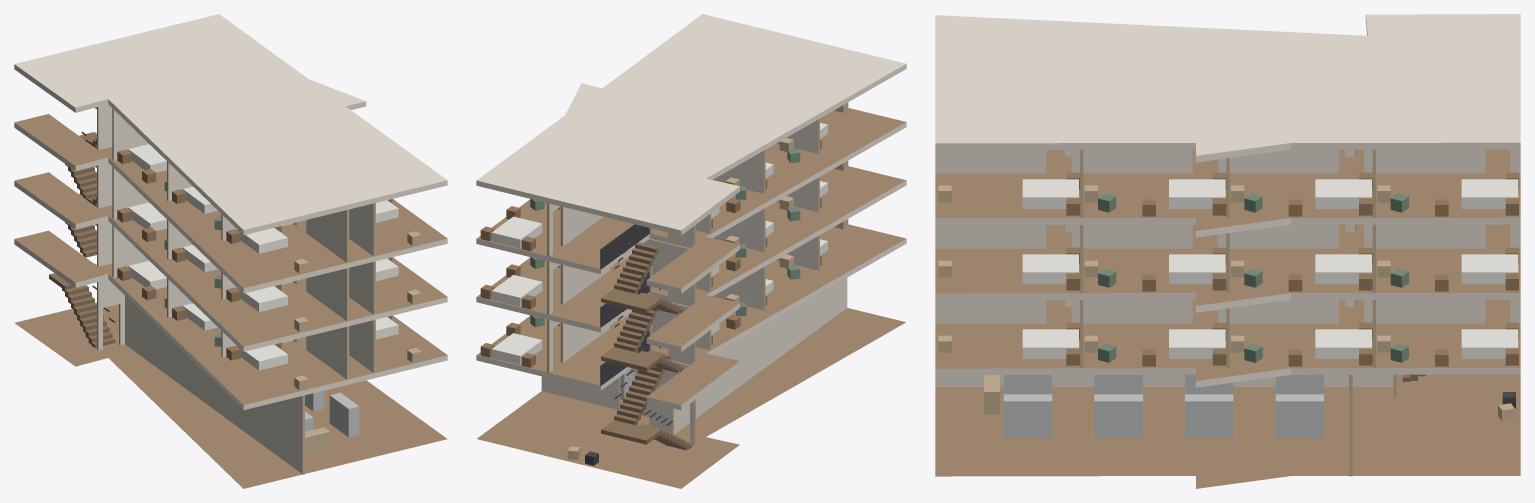
Rendered from interior.glb.
The picture shows the model from 3 angles, left to right: view 1: azimuth 30°, elevation 25°; view 2: azimuth 150°, elevation 25°; view 3: azimuth 270°, elevation 25°; orthographic projection. The views are drawn at different scales.
Parts seen in each view (by area): view 1: slabs, partitions, coarse-s2, coarse-s3, coarse-s1, stair, coarse-s0; view 2: slabs, partitions, stair, coarse-s1, coarse-s2, coarse-s3, coarse-s0; view 3: slabs, partitions, coarse-s0, coarse-s3, coarse-s2, coarse-s1.
Boxes of the visible parts, x1,y1,x2,y2 form: slabs: (14, 14, 447, 488); partitions: (97, 104, 375, 474); coarse-s2: (117, 202, 421, 331); coarse-s3: (117, 144, 421, 273); coarse-s1: (117, 261, 421, 390); stair: (49, 131, 115, 347); coarse-s0: (305, 390, 359, 455); slabs: (476, 14, 906, 488); partitions: (541, 118, 847, 445); stair: (600, 224, 692, 450); coarse-s1: (480, 219, 848, 367); coarse-s2: (480, 161, 848, 309); coarse-s3: (480, 102, 848, 251); coarse-s0: (567, 371, 635, 465); slabs: (935, 14, 1520, 488); partitions: (935, 149, 1520, 476); coarse-s0: (984, 374, 1515, 437); coarse-s3: (938, 172, 1518, 216); coarse-s2: (938, 247, 1518, 291); coarse-s1: (938, 322, 1518, 366).
Size of the model in its own units: 11.86 by 13 by 20.68.
